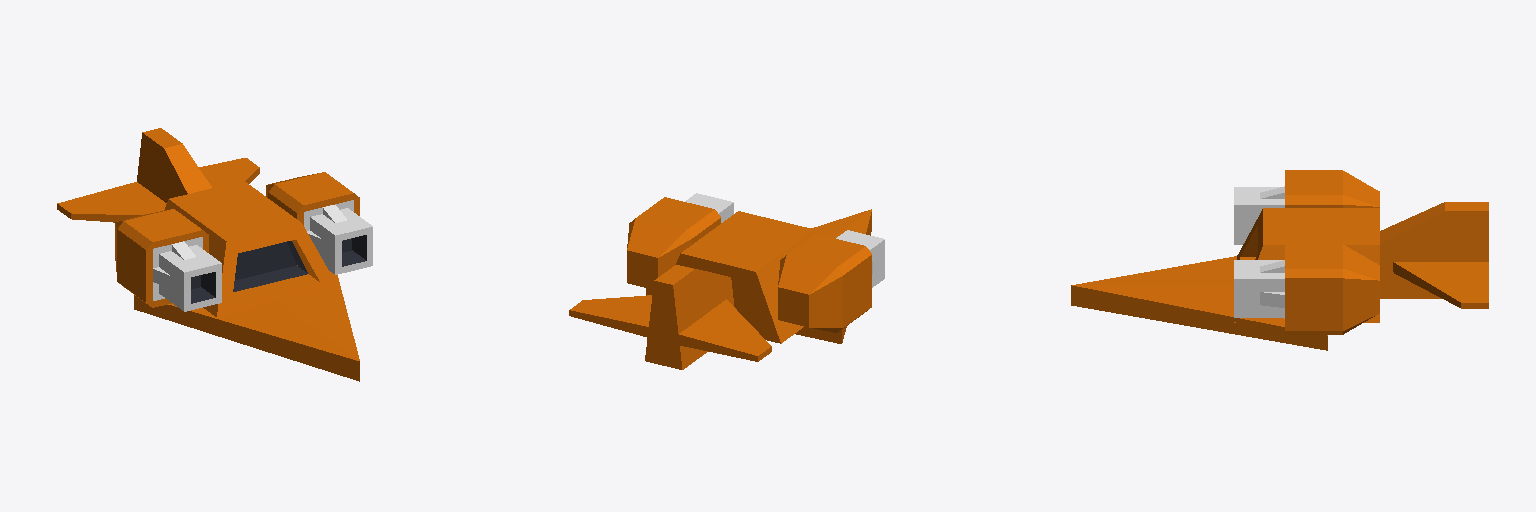
File: flying_00_05.obj
The picture shows the model from 3 angles: view 1: azimuth 30°, elevation 25°; view 2: azimuth 150°, elevation 25°; view 3: azimuth 270°, elevation 25°; orthographic projection.
Visible parts, largest first — view 1: mergedBlocks; view 2: mergedBlocks; view 3: mergedBlocks.
Part boxes in pixels (left/top/right/bottom): mergedBlocks: left=57, top=128, right=372, bottom=381; mergedBlocks: left=569, top=193, right=884, bottom=369; mergedBlocks: left=1071, top=170, right=1488, bottom=350.
Bounding box in the file's own units: 1.7 × 0.7524 × 2.87.